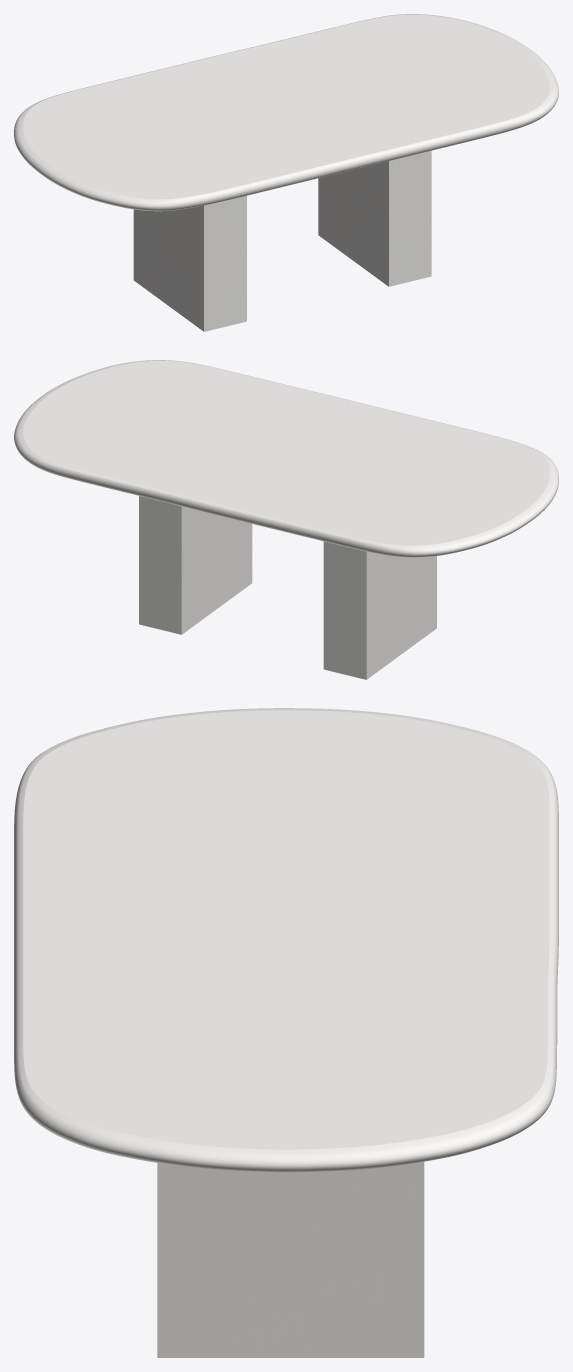
File: purewhite_oval_round_ridge.glb
The picture shows the model from 3 angles, top to bottom: view 1: azimuth 30°, elevation 25°; view 2: azimuth 150°, elevation 25°; view 3: azimuth 270°, elevation 25°; orthographic projection. The views are drawn at different scales.
Parts seen in each view (by area): view 1: round_oval, ridge; view 2: round_oval, ridge; view 3: round_oval, ridge.
Boxes of the visible parts, <box> form: round_oval: <box>14,14,558,211</box>; ridge: <box>133,150,431,331</box>; round_oval: <box>14,360,558,557</box>; ridge: <box>139,496,436,679</box>; round_oval: <box>14,708,558,1172</box>; ridge: <box>157,1162,424,1357</box>.
Size of the model in its own units: 7.5 by 2.5 by 3.8.
1 material, 1 textured.
